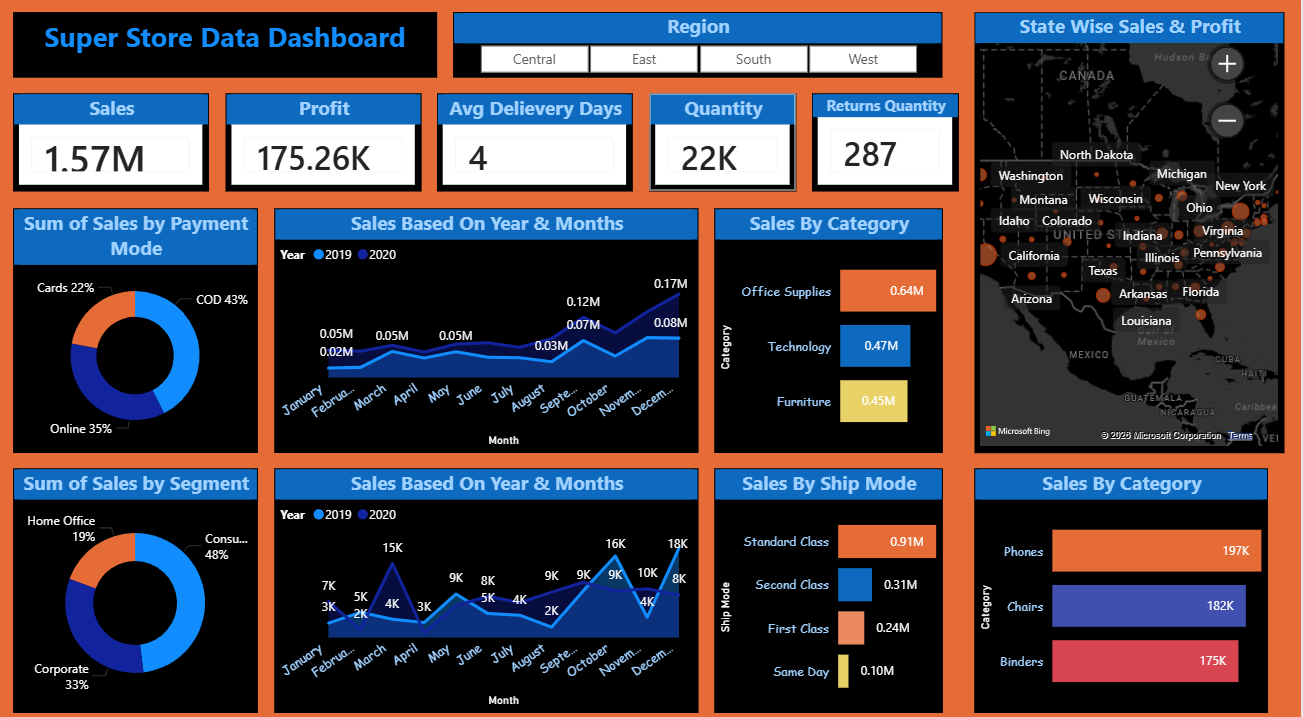

The dashboard page shown, as its layout file describes it:
{"tool":"powerbi","page":{"name":"Dashboard","canvas":[1280,720],"ordinal":0},"visuals":[{"type":"barChart","title":"Sales By Category","fields":{"Category":["SuperStore_Sales_Dataset.Category"],"Y":["Sum(SuperStore_Sales_Dataset.Sales)"]},"box":[704,208,224,240],"z":0},{"type":"barChart","title":"Sales By Ship Mode","fields":{"Y":["Sum(SuperStore_Sales_Dataset.Sales)"],"Category":["SuperStore_Sales_Dataset.Ship Mode"]},"box":[704,464,224,240],"z":1000},{"type":"areaChart","title":"Sales Based On Year & Months","fields":{"Y":["Sum(SuperStore_Sales_Dataset.Sales)"],"Series":["SuperStore_Sales_Dataset.Order Date.Variation.Date Hierarchy.Year"],"Category":["SuperStore_Sales_Dataset.Order Date.Variation.Date Hierarchy.Month"]},"box":[272,208,416,240],"z":2000},{"type":"areaChart","title":"Sales Based On Year & Months","fields":{"Series":["SuperStore_Sales_Dataset.Order Date.Variation.Date Hierarchy.Year"],"Category":["SuperStore_Sales_Dataset.Order Date.Variation.Date Hierarchy.Month"],"Y":["Sum(SuperStore_Sales_Dataset.Profit)"]},"box":[272,464,416,240],"z":3000},{"type":"map","title":"State Wise Sales & Profit","fields":{"Category":["SuperStore_Sales_Dataset.State"],"Size":["Sum(SuperStore_Sales_Dataset.Sales)"]},"box":[960,16,304,432],"z":4000},{"type":"donutChart","fields":{"Category":["SuperStore_Sales_Dataset.Segment"],"Y":["Sum(SuperStore_Sales_Dataset.Sales)"]},"box":[16,464,240,240],"z":5000},{"type":"donutChart","fields":{"Y":["Sum(SuperStore_Sales_Dataset.Sales)"],"Category":["SuperStore_Sales_Dataset.Payment Mode"]},"box":[16,208,240,240],"z":6000},{"type":"slicer","title":"Region","fields":{"Values":["SuperStore_Sales_Dataset.Region"]},"box":[448,16,480,64],"z":7000},{"type":"textbox","box":[16,16,416,64],"z":8000},{"type":"cardVisual","title":"Sales","fields":{"Data":["Sum(SuperStore_Sales_Dataset.Sales)"]},"box":[16,96,192,96],"z":9000},{"type":"cardVisual","title":"Profit","fields":{"Data":["Sum(SuperStore_Sales_Dataset.Profit)"]},"box":[224,96,192,96],"z":10000},{"type":"cardVisual","title":"Quantity","fields":{"Data":["Sum(SuperStore_Sales_Dataset.Quantity)"]},"box":[640,96,144,96],"z":11000},{"type":"cardVisual","title":"Avg Delievery Days","fields":{"Data":["Avg(SuperStore_Sales_Dataset.Avg_Delievery)"]},"box":[432,96,192,96],"z":12000},{"type":"barChart","title":"Sales By Category","fields":{"Y":["Sum(SuperStore_Sales_Dataset.Sales)"],"Category":["SuperStore_Sales_Dataset.Sub-Category"]},"box":[960,464,288,240],"z":13000},{"type":"cardVisual","title":"Returns Quantity","fields":{"Data":["Sum(SuperStore_Sales_Dataset.Returns)"]},"box":[800,96,144,96],"z":14000}]}

Visuals, with their boxes in screenshot pixels (x1, y1, x2, y2), scaled from the page's 1280x720 canvas onto the 1303x717 screenshot:
"Sales By Category" barChart: (717, 207, 945, 446)
"Sales By Ship Mode" barChart: (717, 462, 945, 701)
"Sales Based On Year & Months" areaChart: (277, 207, 700, 446)
"Sales Based On Year & Months" areaChart: (277, 462, 700, 701)
"State Wise Sales & Profit" map: (977, 16, 1287, 446)
donutChart - SuperStore_Sales_Dataset.Segment x Sum(SuperStore_Sales_Dataset.Sales): (16, 462, 261, 701)
donutChart - Sum(SuperStore_Sales_Dataset.Sales) x SuperStore_Sales_Dataset.Payment Mode: (16, 207, 261, 446)
"Region" slicer: (456, 16, 945, 80)
textbox: (16, 16, 440, 80)
"Sales" cardVisual: (16, 96, 212, 191)
"Profit" cardVisual: (228, 96, 423, 191)
"Quantity" cardVisual: (652, 96, 798, 191)
"Avg Delievery Days" cardVisual: (440, 96, 635, 191)
"Sales By Category" barChart: (977, 462, 1270, 701)
"Returns Quantity" cardVisual: (814, 96, 961, 191)
